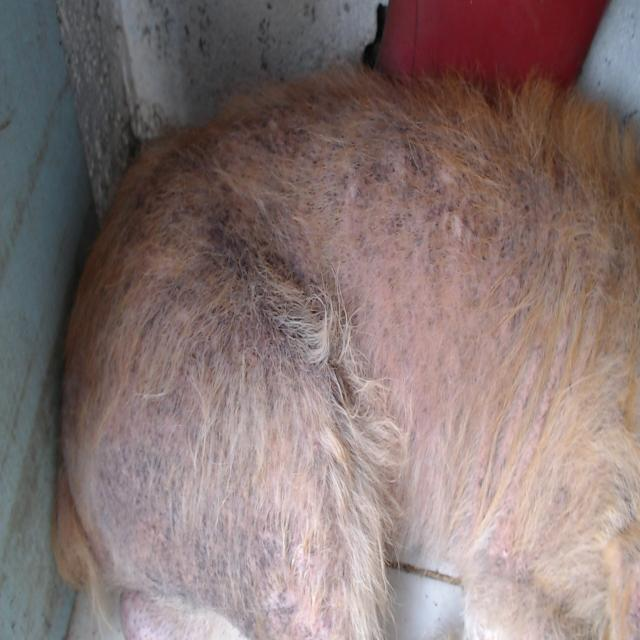demodicosis: (341, 145, 517, 357), (123, 440, 248, 580), (230, 238, 289, 336), (291, 555, 346, 638)
